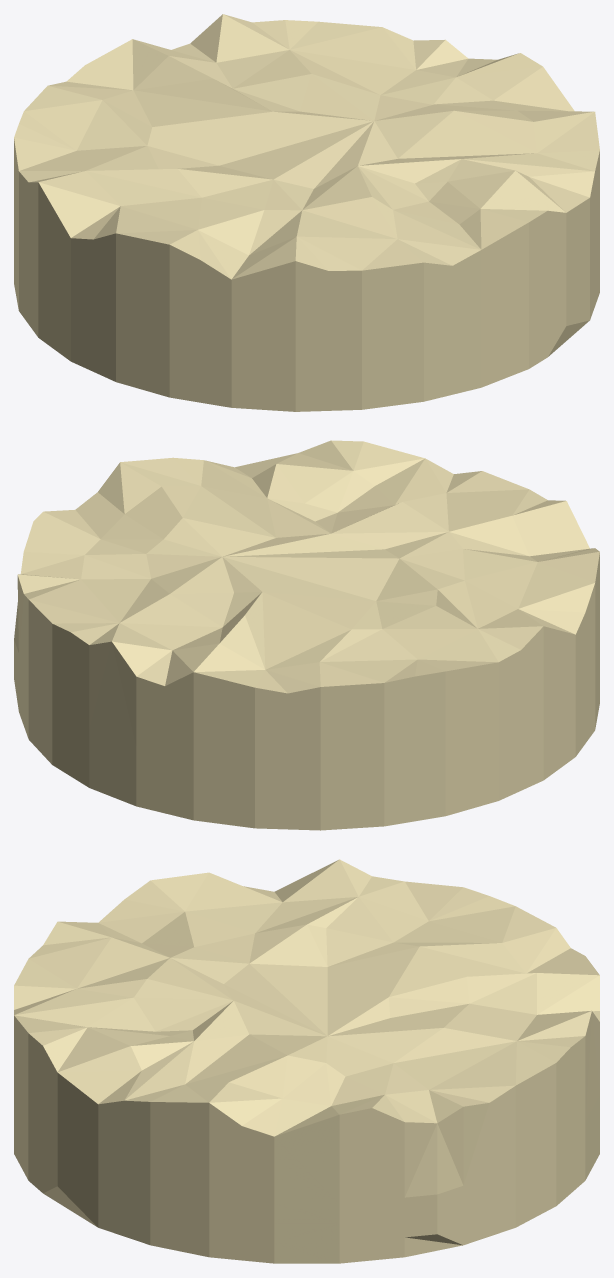
The model's file is floor_bosque.glb.
3 views of the same model, one above another, from view 1: azimuth 30°, elevation 25°; view 2: azimuth 150°, elevation 25°; view 3: azimuth 270°, elevation 25° (orthographic).
Visible parts, largest first — view 1: Object_7; view 2: Object_7; view 3: Object_7.
Part boxes in pixels (<box>): Object_7: <box>14,14,599,411</box>; Object_7: <box>14,440,599,830</box>; Object_7: <box>14,859,599,1263</box>.
Size of the model in its own units: 15.6 by 4.62 by 15.59.
